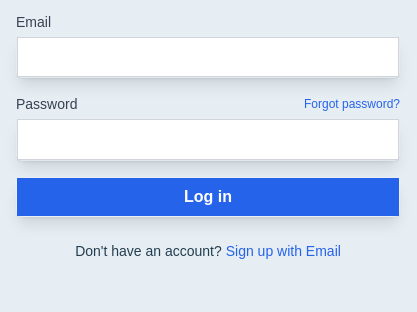
LoginForm accessibility › should announce errors via aria-describedby
Step 1. Type "user@example.com" into the field labelled "Email" → [208, 57], box [17,37,399,77]
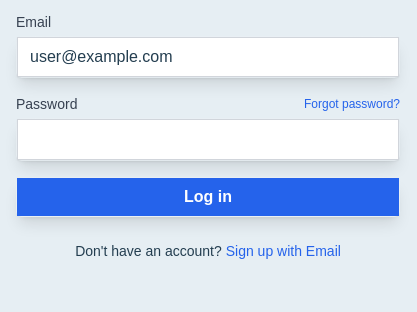
Step 2. Type "wrong-password" into the password field labelled "Password" → [208, 140], box [17,119,399,160]
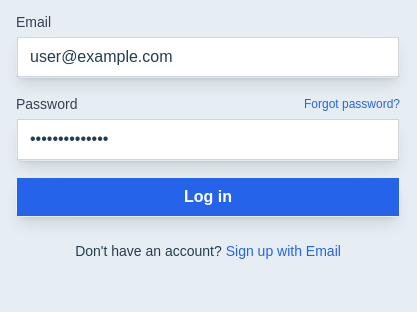
Step 3. Click the button "Log in" → [208, 197], box [17,178,399,216]
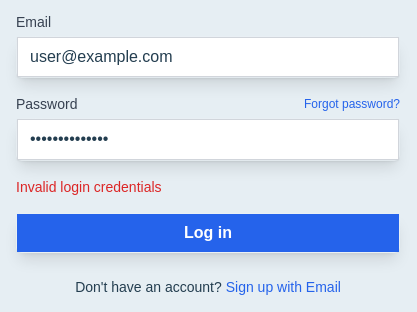
Expected: the message reads "Invalid login credentials", [16,179,162,195]
